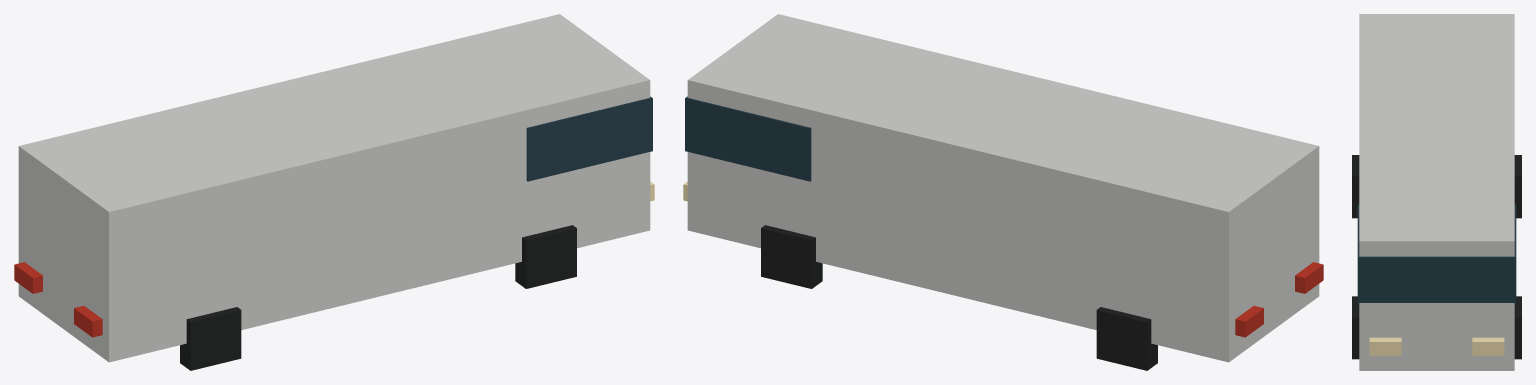
Rendered from traffic-van-6.glb.
3 views of the same model, side by side, from view 1: azimuth 30°, elevation 25°; view 2: azimuth 150°, elevation 25°; view 3: azimuth 270°, elevation 25° (orthographic). The views are drawn at different scales.
Size of the model in its own units: 6.65 by 1.98 by 2.02.
